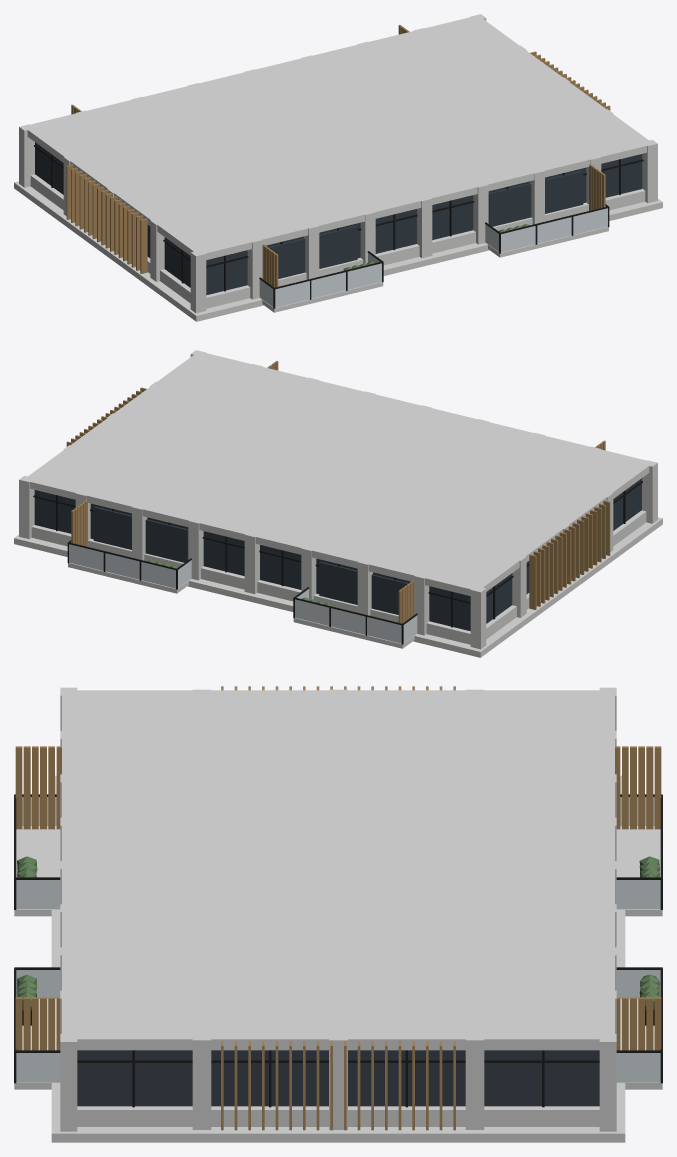
The model's file is piso.glb.
3 renders of one model, top to bottom at view 1: azimuth 30°, elevation 25°; view 2: azimuth 150°, elevation 25°; view 3: azimuth 270°, elevation 25°, orthographic. The views are drawn at different scales.
Parts seen in each view (by area): view 1: piso_conc, piso_glass, piso_wood, piso_rail, piso_frame; view 2: piso_conc, piso_glass, piso_wood, piso_rail, piso_frame; view 3: piso_conc, piso_glass, piso_wood, piso_rail, piso_frame, piso_green.
Boxes of the visible parts, bbox=[...] form: piso_conc: bbox=[14, 14, 662, 321]; piso_glass: bbox=[35, 142, 642, 295]; piso_wood: bbox=[66, 25, 610, 287]; piso_rail: bbox=[259, 206, 607, 307]; piso_frame: bbox=[34, 145, 643, 308]; piso_conc: bbox=[14, 350, 662, 657]; piso_glass: bbox=[34, 478, 641, 631]; piso_wood: bbox=[66, 361, 610, 623]; piso_rail: bbox=[69, 542, 417, 643]; piso_frame: bbox=[33, 481, 642, 644]; piso_conc: bbox=[14, 687, 662, 1142]; piso_glass: bbox=[77, 1050, 599, 1106]; piso_wood: bbox=[15, 686, 661, 1130]; piso_rail: bbox=[16, 797, 660, 1082]; piso_frame: bbox=[14, 794, 662, 1107]; piso_green: bbox=[17, 856, 659, 1009].
Size of the model in its own units: 24.94 by 3.2 by 19.01.
